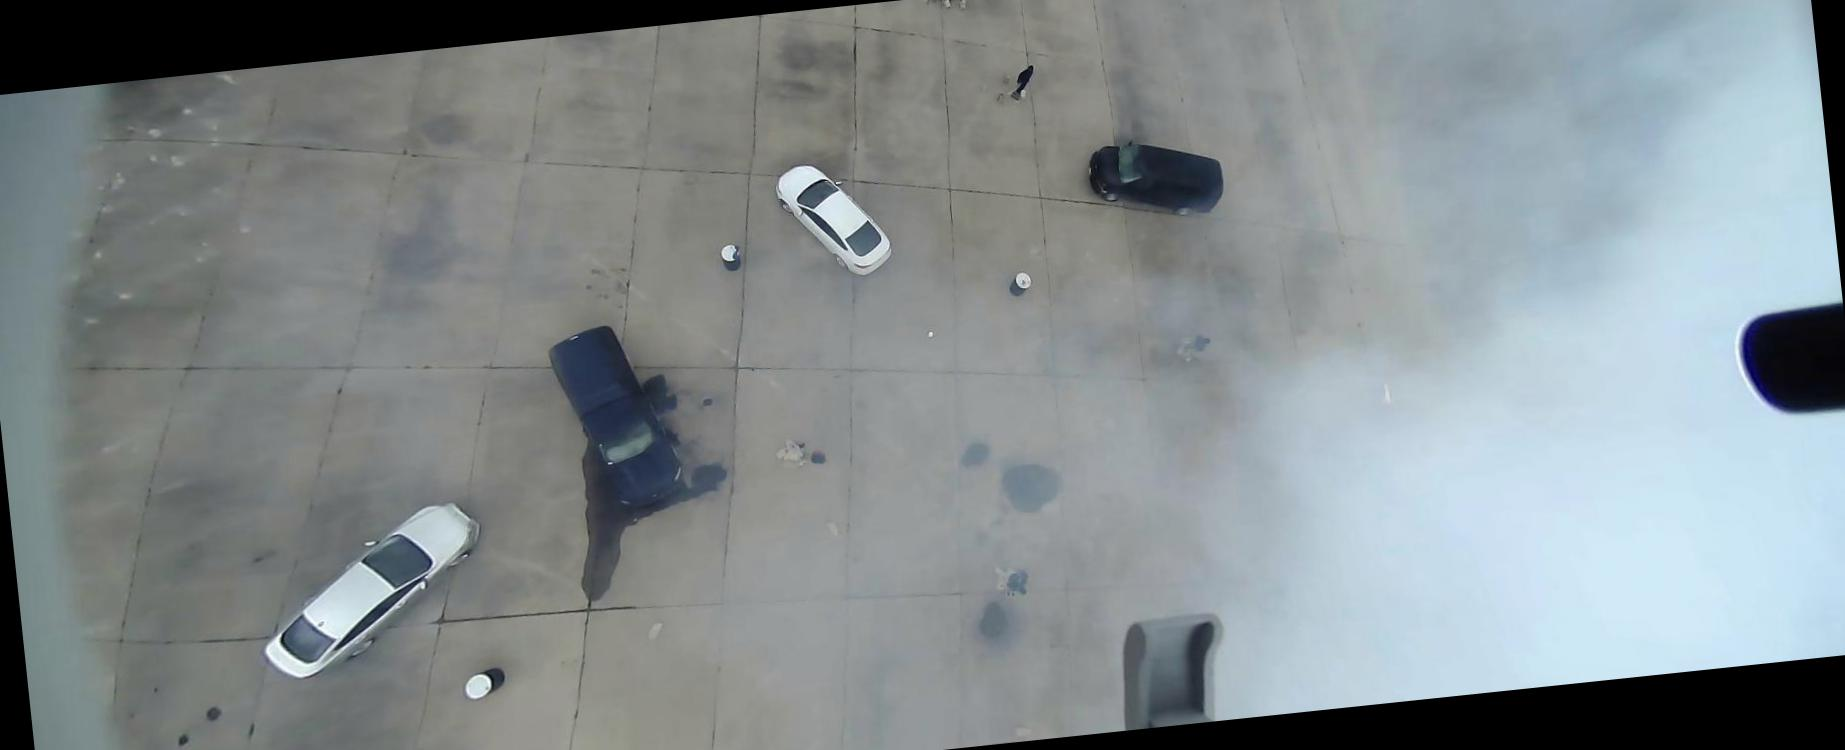vehicle: (247, 498, 494, 684), (545, 318, 688, 515), (773, 155, 897, 285), (1085, 131, 1226, 226)
